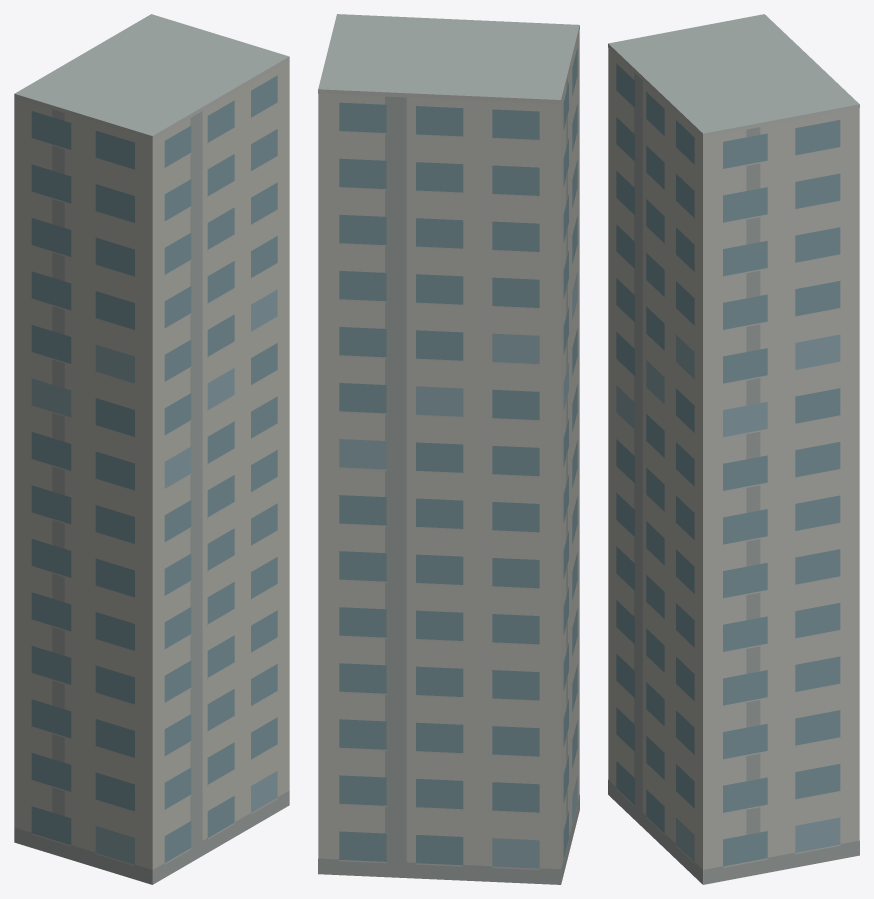
File: residential-b5f2b881-b5d5-42e2-b3c7-8f9d49f02d74.glb
3 views of the same model, side by side, from view 1: azimuth 30°, elevation 25°; view 2: azimuth 150°, elevation 25°; view 3: azimuth 270°, elevation 25° (orthographic). The views are drawn at different scales.
Visible parts, largest first — view 1: residential-b5f2b881-b5d5-42e2-b3c7-8f9d49f02d74.tmp; view 2: residential-b5f2b881-b5d5-42e2-b3c7-8f9d49f02d74.tmp; view 3: residential-b5f2b881-b5d5-42e2-b3c7-8f9d49f02d74.tmp.
Part boxes in pixels (left/top/right/bottom): residential-b5f2b881-b5d5-42e2-b3c7-8f9d49f02d74.tmp: left=14, top=14, right=289, bottom=884; residential-b5f2b881-b5d5-42e2-b3c7-8f9d49f02d74.tmp: left=318, top=14, right=579, bottom=884; residential-b5f2b881-b5d5-42e2-b3c7-8f9d49f02d74.tmp: left=608, top=14, right=859, bottom=884.
Bounding box in the file's own units: 15.38 × 45 × 13.67.
